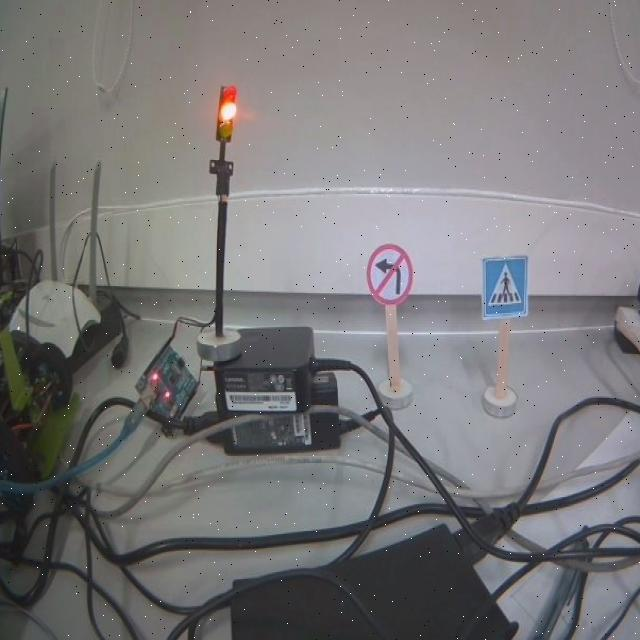Dilarang Belok Kiri: (366, 243, 412, 306)
Lampu Kuning: (216, 84, 236, 143)
Rambu Penyebrangan: (482, 255, 528, 318)
